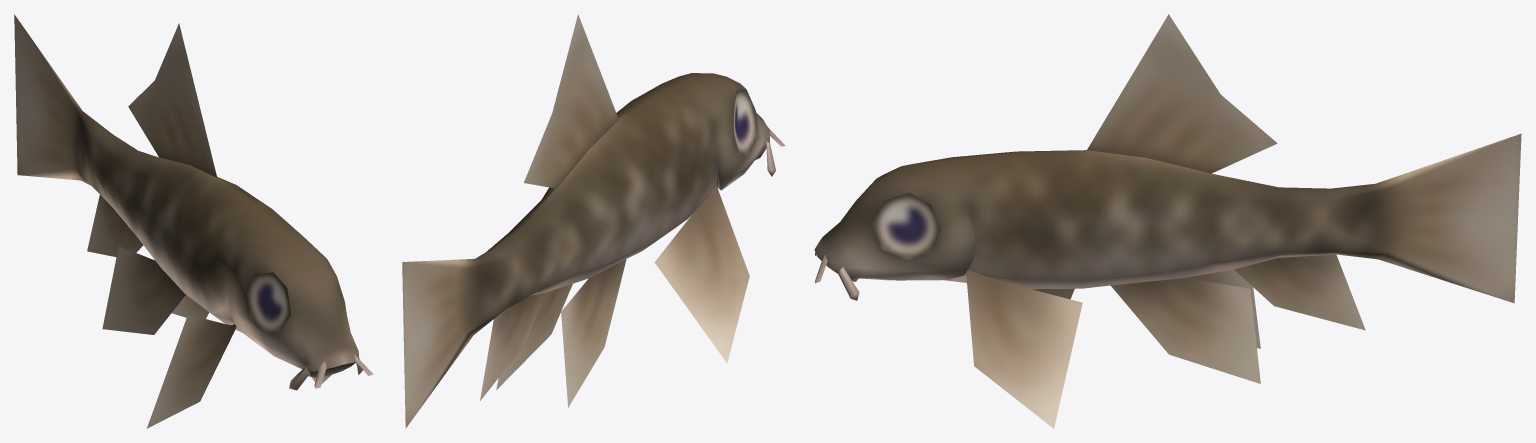
File: doctor-fish.glb
3 renders of one model, left to right at view 1: azimuth 30°, elevation 25°; view 2: azimuth 150°, elevation 25°; view 3: azimuth 270°, elevation 25°, orthographic. The views are drawn at different scales.
Visible parts, largest first — view 1: FishDokutaafish__mDokutaafish; view 2: FishDokutaafish__mDokutaafish; view 3: FishDokutaafish__mDokutaafish.
Part boxes in pixels (x1=…): FishDokutaafish__mDokutaafish: x1=14, y1=14, x2=373, y2=428; FishDokutaafish__mDokutaafish: x1=402, y1=14, x2=785, y2=428; FishDokutaafish__mDokutaafish: x1=814, y1=14, x2=1521, y2=428.
Size of the model in its own units: 0.9802 by 1.88 by 3.26.
Materials: 1 (1 with a texture image).
